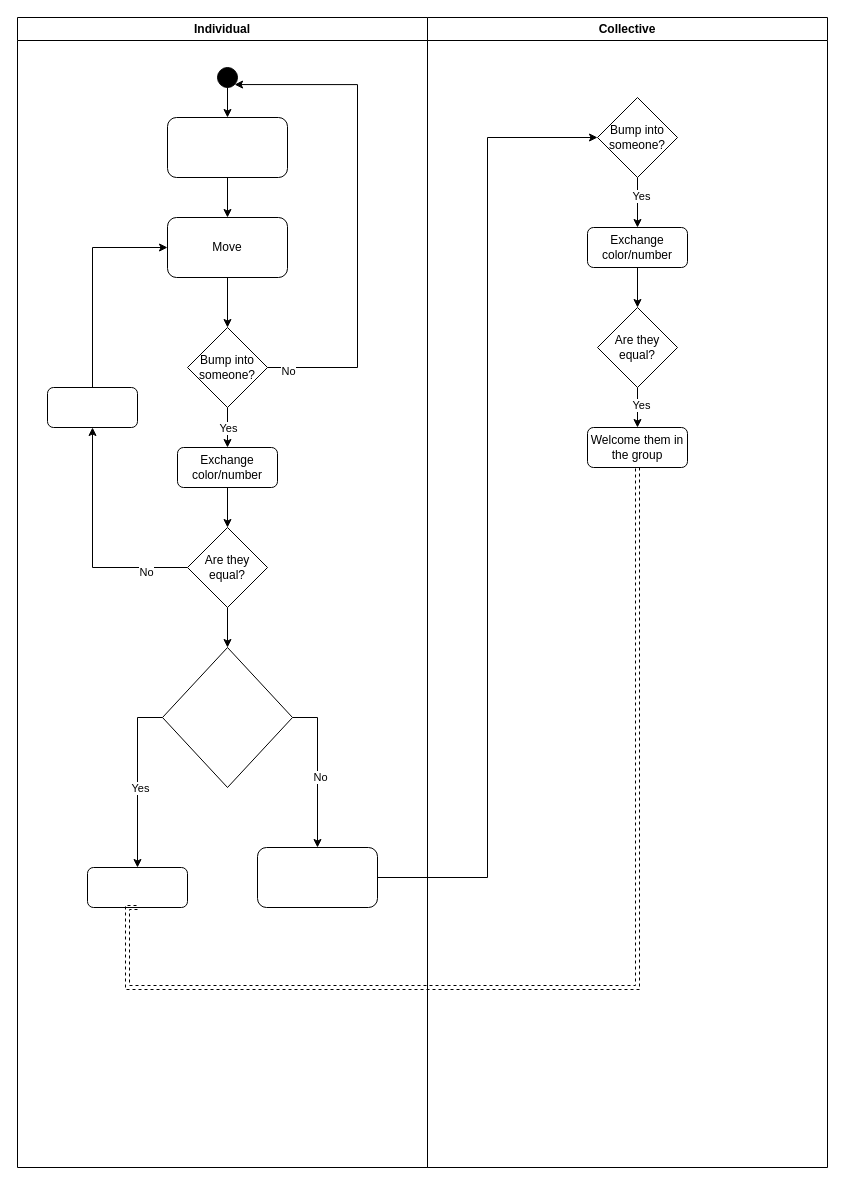
Image size: 845x1185. Some labels were removed from this diagram. The shapes that lost their labels are listed below. From the top down, each one's centre as x and y in pixels, then its label:
pixel 227 147: Chose a random change in heading.
pixel 92 407: Turn around 180°
pixel 227 717: Is that someone an agent already belonging to a group?
pixel 137 887: Join group
pixel 317 877: Create new group with the individual agent
